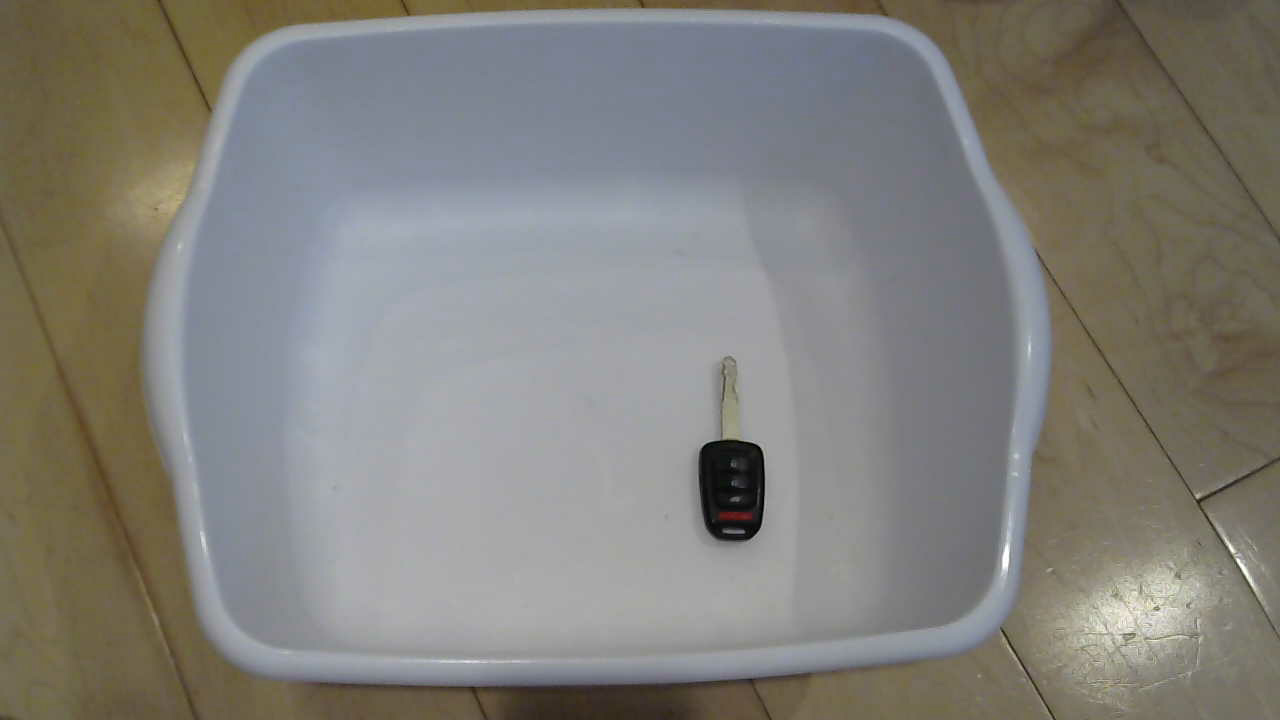key: (687, 353, 796, 553)
